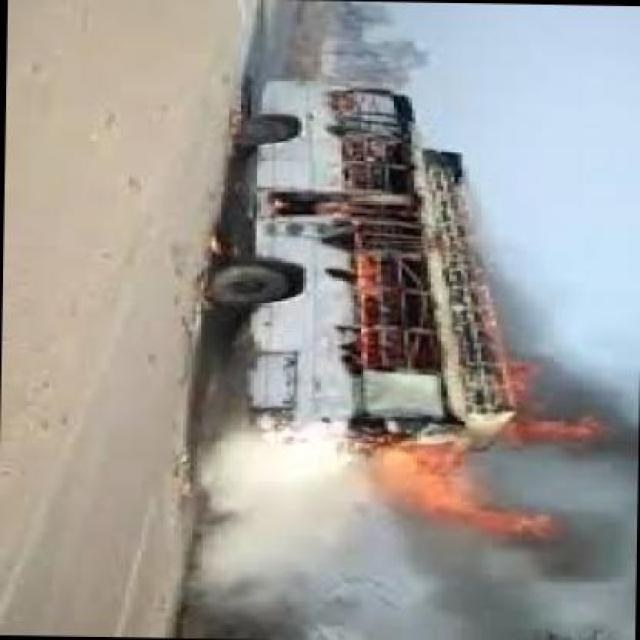Fire: (382, 421, 552, 539), (502, 358, 593, 443), (354, 242, 394, 386)
Smoke: (211, 414, 374, 640), (394, 540, 636, 635), (604, 375, 640, 458)
